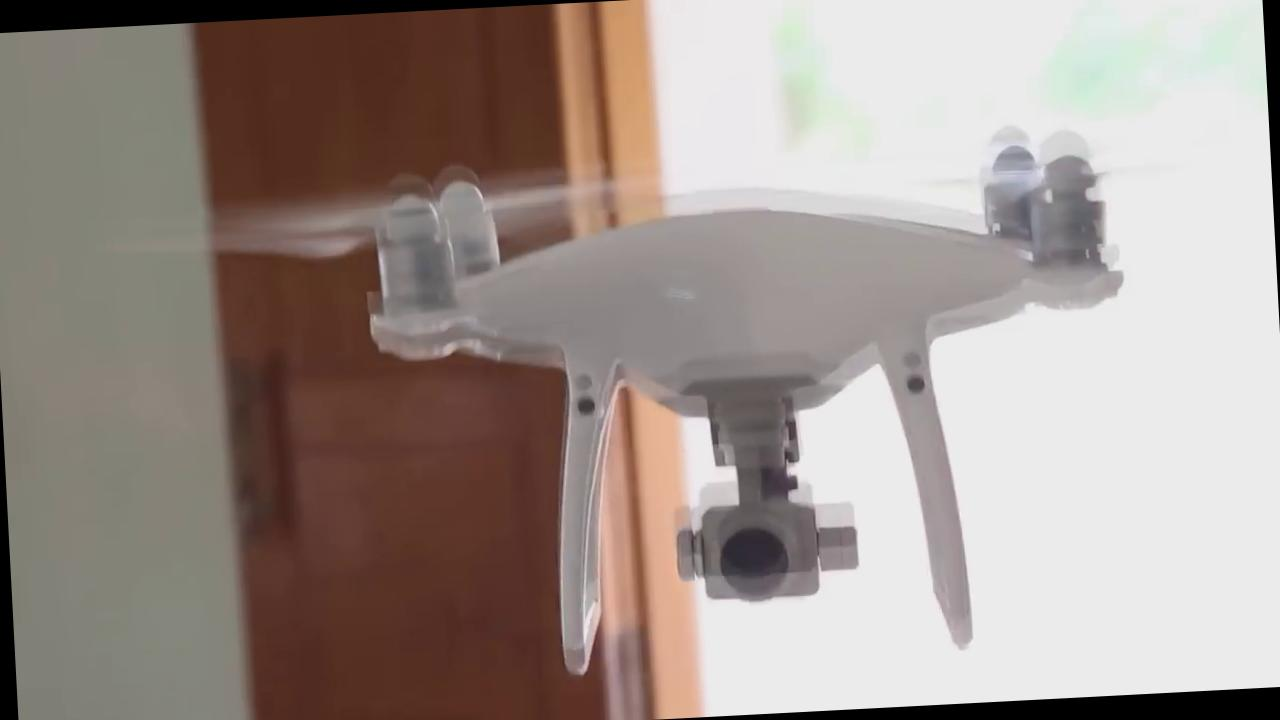drone: (308, 86, 1142, 483)
